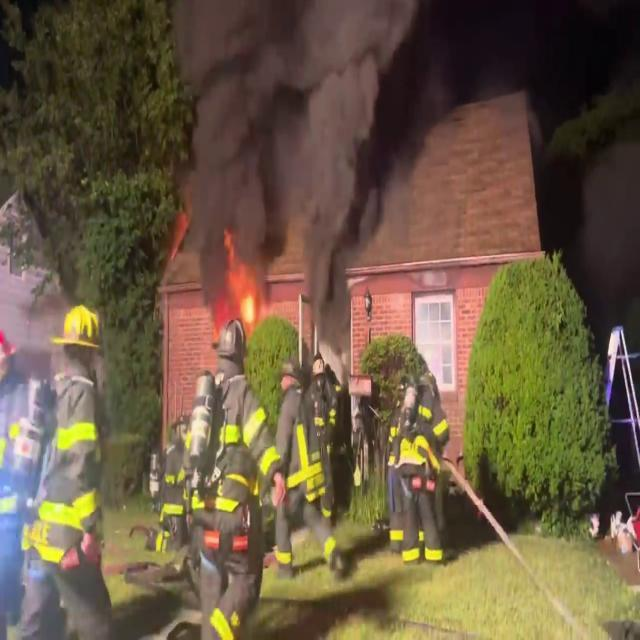Fire: (223, 245, 273, 341)
Smoke: (173, 2, 440, 308)
